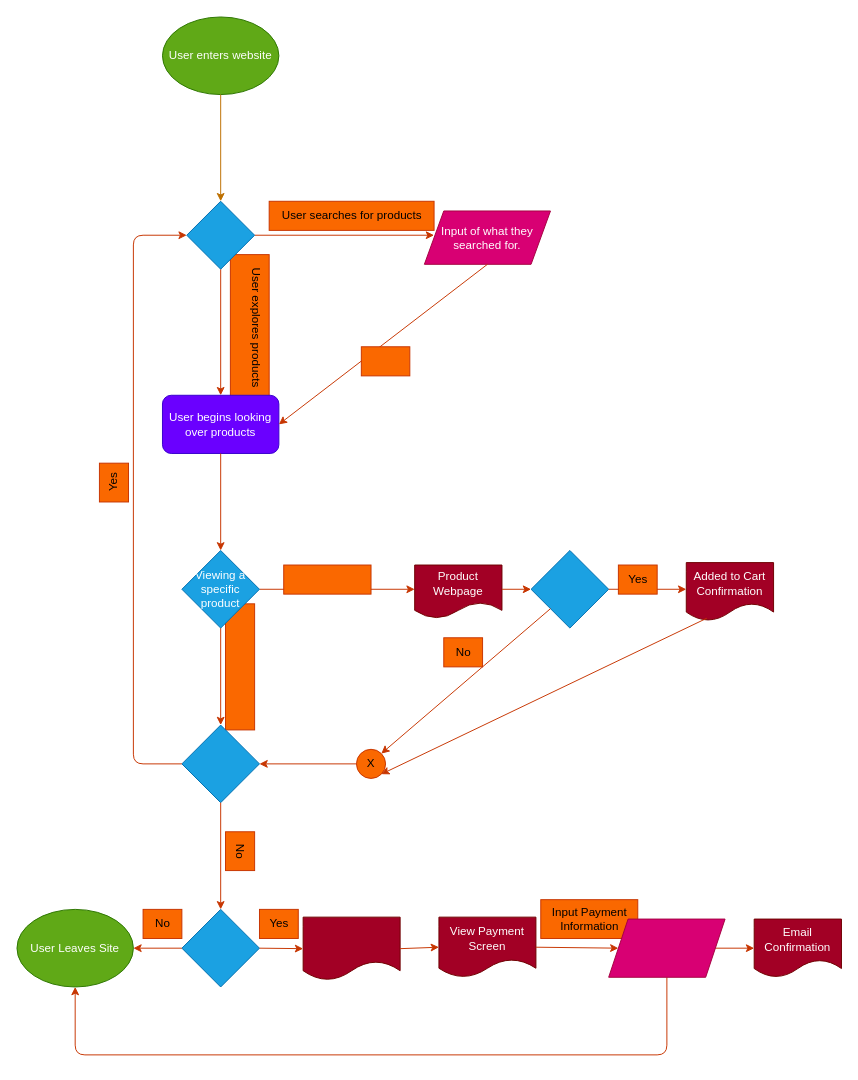
This 858x1080 diagram has some shape labels left out. Each missing label, with the centre of its shape:
Add to Cart?: point (569, 589)
Checkout?: point (220, 947)
Continue Shopping?: point (220, 763)
Do not View Product: point (240, 666)
Input: point (385, 361)
Order Confirmation: point (666, 947)
Searching/Exploring Products: point (220, 234)
View Cart Screen: point (351, 948)
View Product: point (327, 579)
